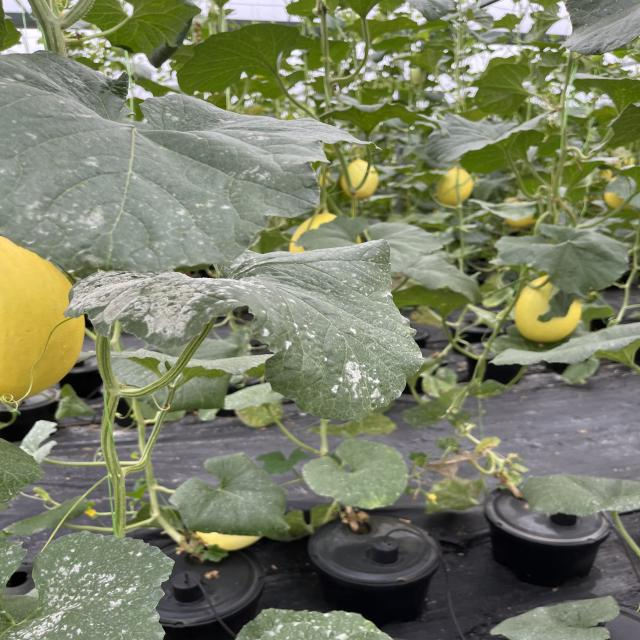downy mildew: (2, 48, 379, 268)
powdery mildew: (78, 243, 420, 427), (0, 534, 188, 640)
